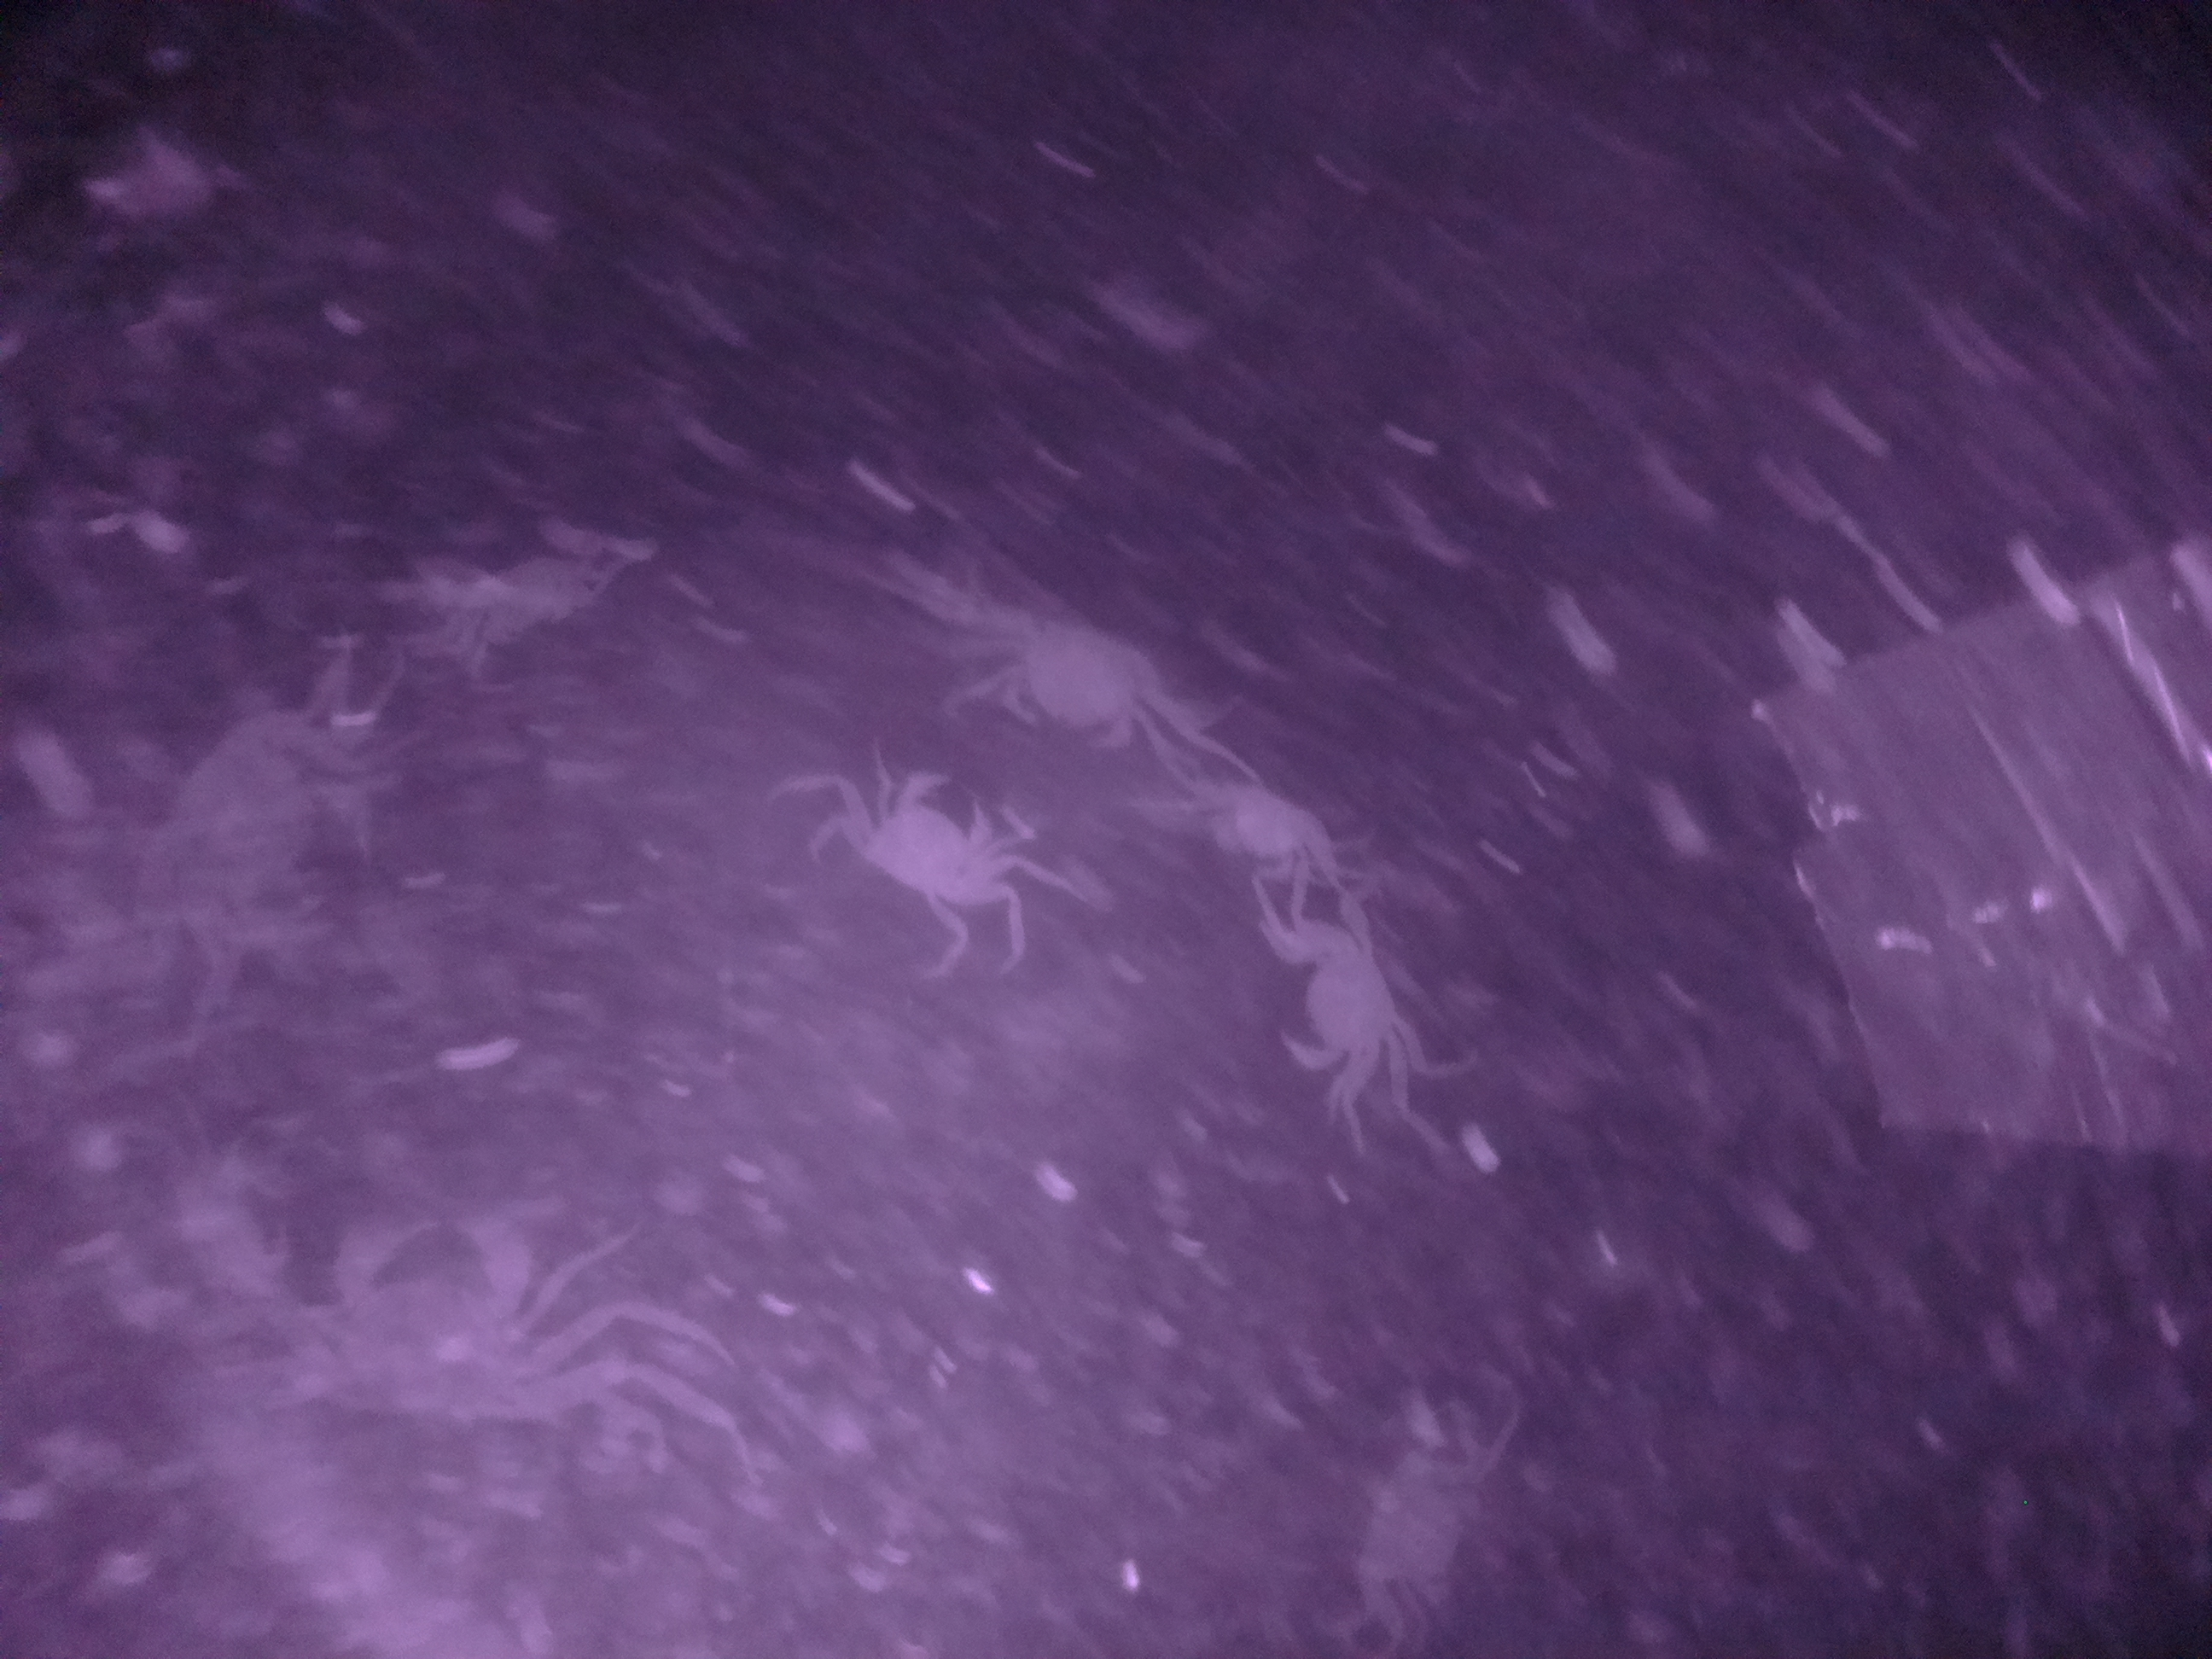Crab: (1254, 899, 1437, 1089), (974, 594, 1190, 742), (852, 769, 1049, 927)
